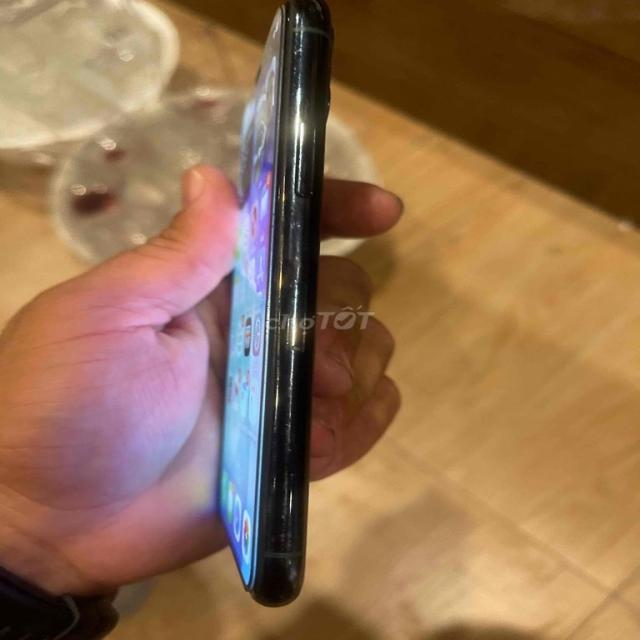gen_11: (218, 0, 332, 606)
scratch: (270, 274, 327, 456), (262, 471, 316, 572), (284, 34, 330, 117), (272, 194, 320, 267), (273, 5, 307, 26), (307, 124, 328, 146)
